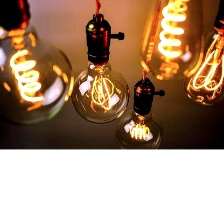light_bulb: (0, 0, 76, 129), (67, 9, 133, 127), (134, 0, 207, 85), (109, 75, 170, 159), (180, 0, 223, 106)
